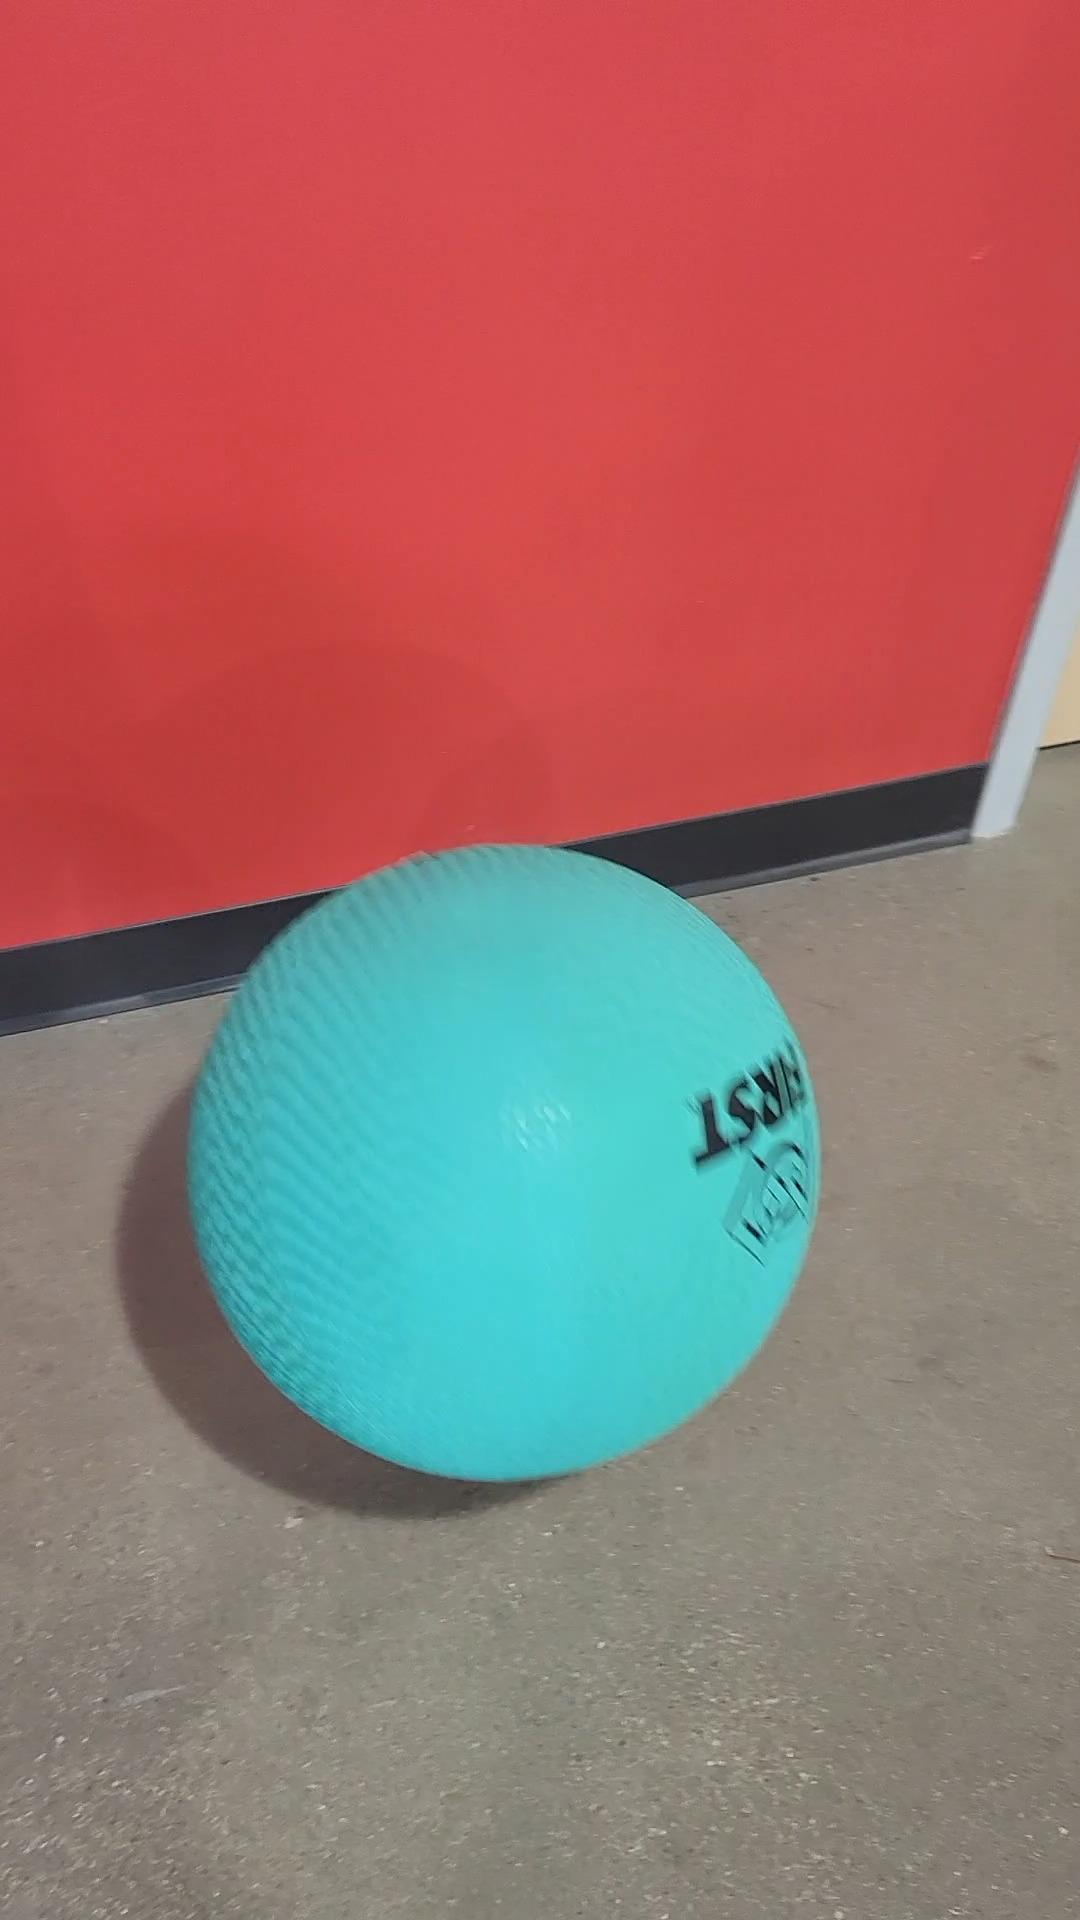algae: (186, 841, 807, 1477)
